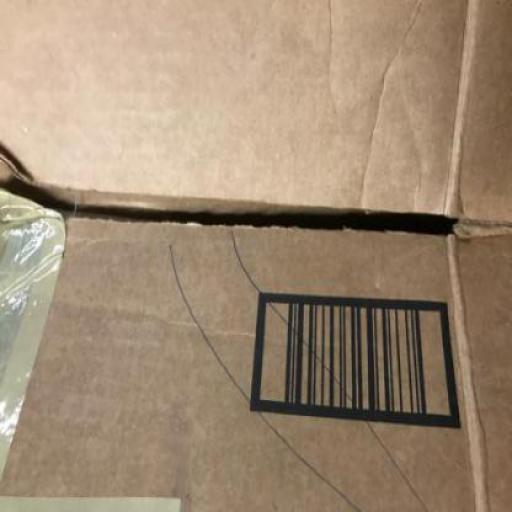cardboard: (0, 0, 511, 511), (0, 218, 511, 512), (0, 0, 511, 225)
